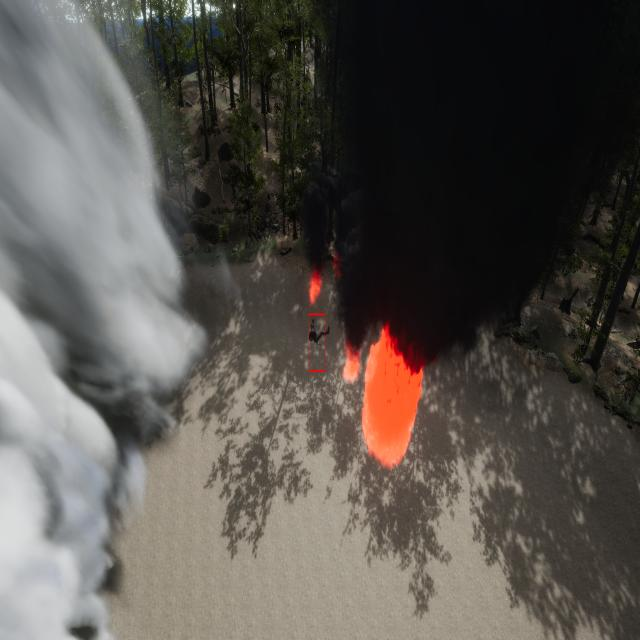Human: (305, 314, 337, 354)
